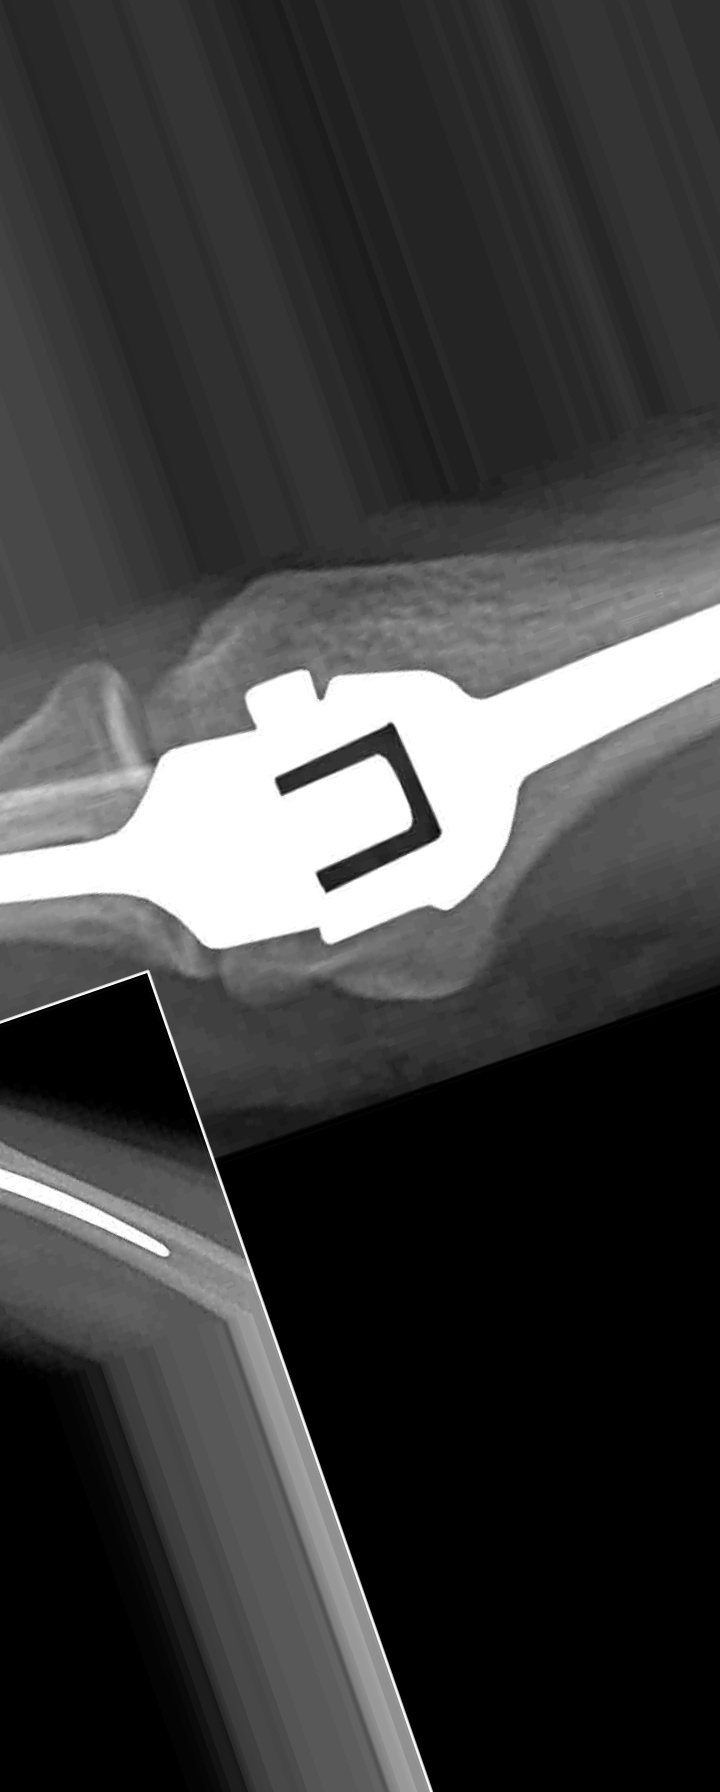Elbow - Osteonics - Stryker: (2, 575, 720, 966)
